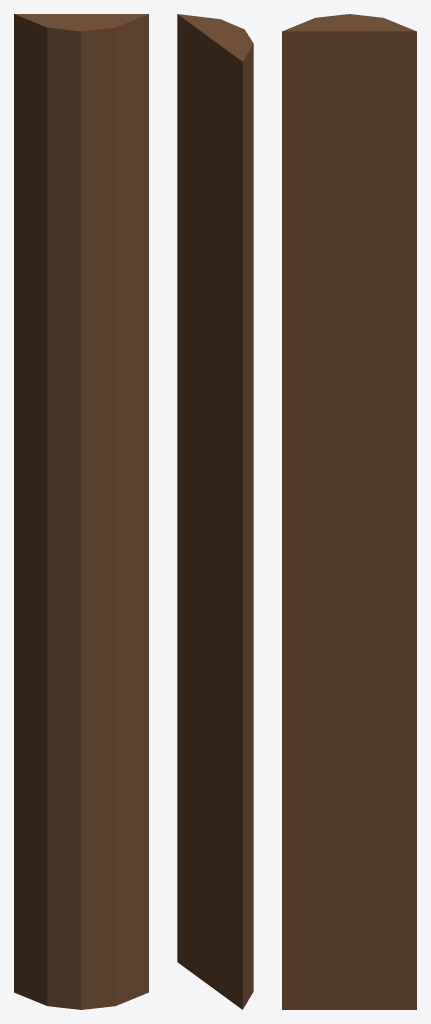
File: fencepostsmall.glb
3 views of the same model, side by side, from view 1: azimuth 90°, elevation 25°; view 2: azimuth 210°, elevation 25°; view 3: azimuth 270°, elevation 25° (orthographic). The views are drawn at different scales.
Parts seen in each view (by area): view 1: Cube.001; view 2: Cube.001; view 3: Cube.001.
Boxes of the visible parts, left/top/right/bottom form: Cube.001: left=14, top=14, right=148, bottom=1009; Cube.001: left=177, top=14, right=253, bottom=1009; Cube.001: left=282, top=14, right=416, bottom=1009.
Size of the model in its own units: 0.0613 by 1.6 by 0.2.
